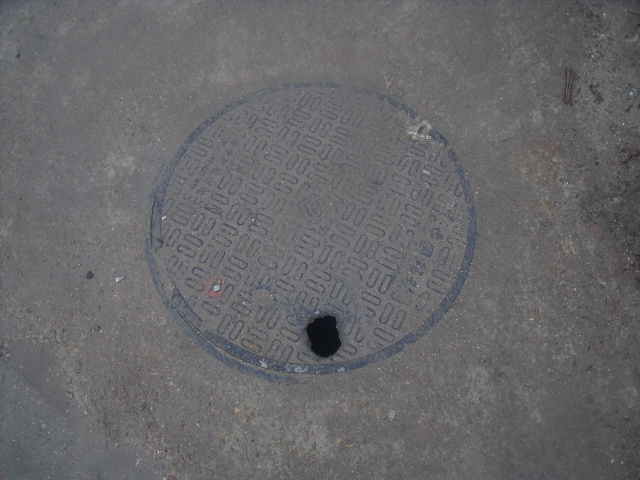broke: (148, 79, 480, 387)
